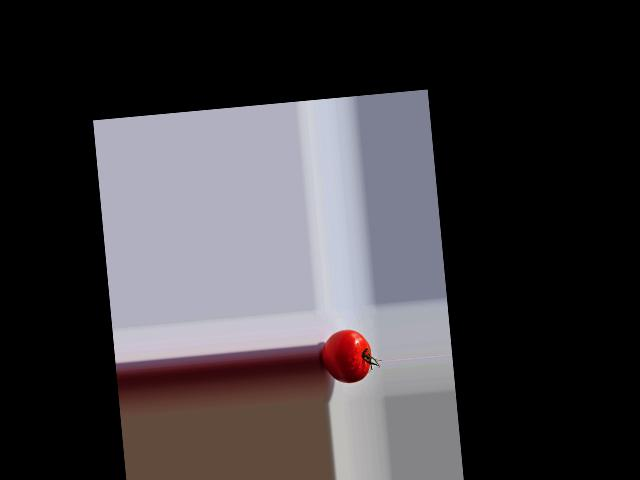tomato: (318, 327, 372, 384)
